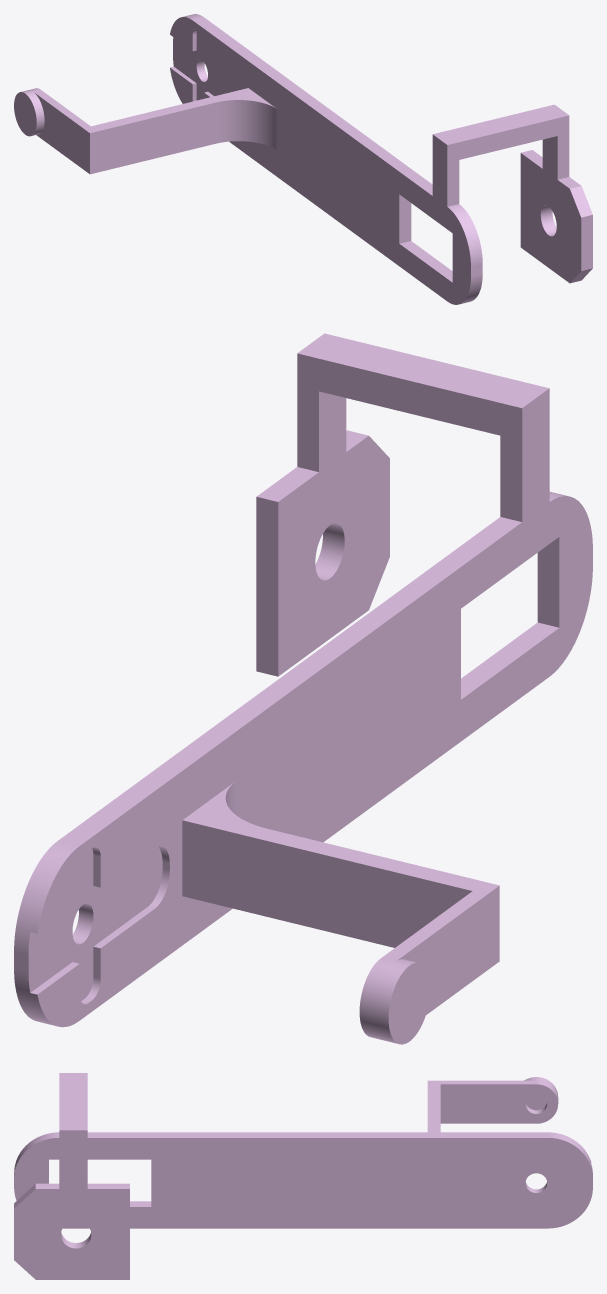
3 views of the same model, one above another, from view 1: azimuth 30°, elevation 25°; view 2: azimuth 150°, elevation 25°; view 3: azimuth 270°, elevation 25° (orthographic). The views are drawn at different scales.
Visible parts, largest first — view 1: mesh326, mesh371, mesh318, mesh362, mesh327, mesh319, mesh317, mesh359, mesh320, mesh356, mesh334, mesh315 (+5 smaller); view 2: mesh326, mesh371, mesh322, mesh361, mesh327, mesh356, mesh359, mesh320, mesh317, mesh369, mesh315, mesh353 (+6 smaller); view 3: mesh358, mesh370, mesh323, mesh327, mesh359, mesh320, mesh334, mesh353.
Part boxes in pixels (x1=…): mesh326: x1=170, y1=17, x2=470, y2=304; mesh371: x1=520, y1=136, x2=581, y2=283; mesh318: x1=90, y1=102, x2=215, y2=174; mesh362: x1=447, y1=115, x2=569, y2=206; mesh327: x1=193, y1=17, x2=432, y2=195; mesh319: x1=216, y1=100, x2=277, y2=150; mesh317: x1=35, y1=93, x2=89, y2=173; mesh359: x1=433, y1=104, x2=568, y2=144; mesh320: x1=33, y1=88, x2=274, y2=132; mesh356: x1=173, y1=30, x2=238, y2=100; mesh334: x1=448, y1=204, x2=482, y2=266; mesh315: x1=14, y1=92, x2=36, y2=136; mesh326: x1=37, y1=388, x2=592, y2=1027; mesh371: x1=278, y1=391, x2=389, y2=676; mesh322: x1=182, y1=820, x2=472, y2=947; mesh361: x1=297, y1=353, x2=522, y2=521; mesh327: x1=58, y1=517, x2=521, y2=846; mesh356: x1=28, y1=846, x2=162, y2=1000; mesh359: x1=297, y1=333, x2=548, y2=407; mesh320: x1=183, y1=781, x2=499, y2=961; mesh317: x1=397, y1=886, x2=499, y2=1014; mesh369: x1=256, y1=497, x2=278, y2=676; mesh315: x1=388, y1=962, x2=430, y2=1044; mesh353: x1=14, y1=841, x2=78, y2=955; mesh358: x1=14, y1=1138, x2=592, y2=1228; mesh370: x1=14, y1=1130, x2=129, y2=1279; mesh323: x1=440, y1=1084, x2=557, y2=1123; mesh327: x1=87, y1=1132, x2=547, y2=1137; mesh359: x1=59, y1=1073, x2=87, y2=1130; mesh320: x1=427, y1=1080, x2=536, y2=1132; mesh334: x1=14, y1=1132, x2=59, y2=1176; mesh353: x1=547, y1=1132, x2=592, y2=1175.
Bounding box in the file's own units: 0.075 × 0.038 × 0.133.
